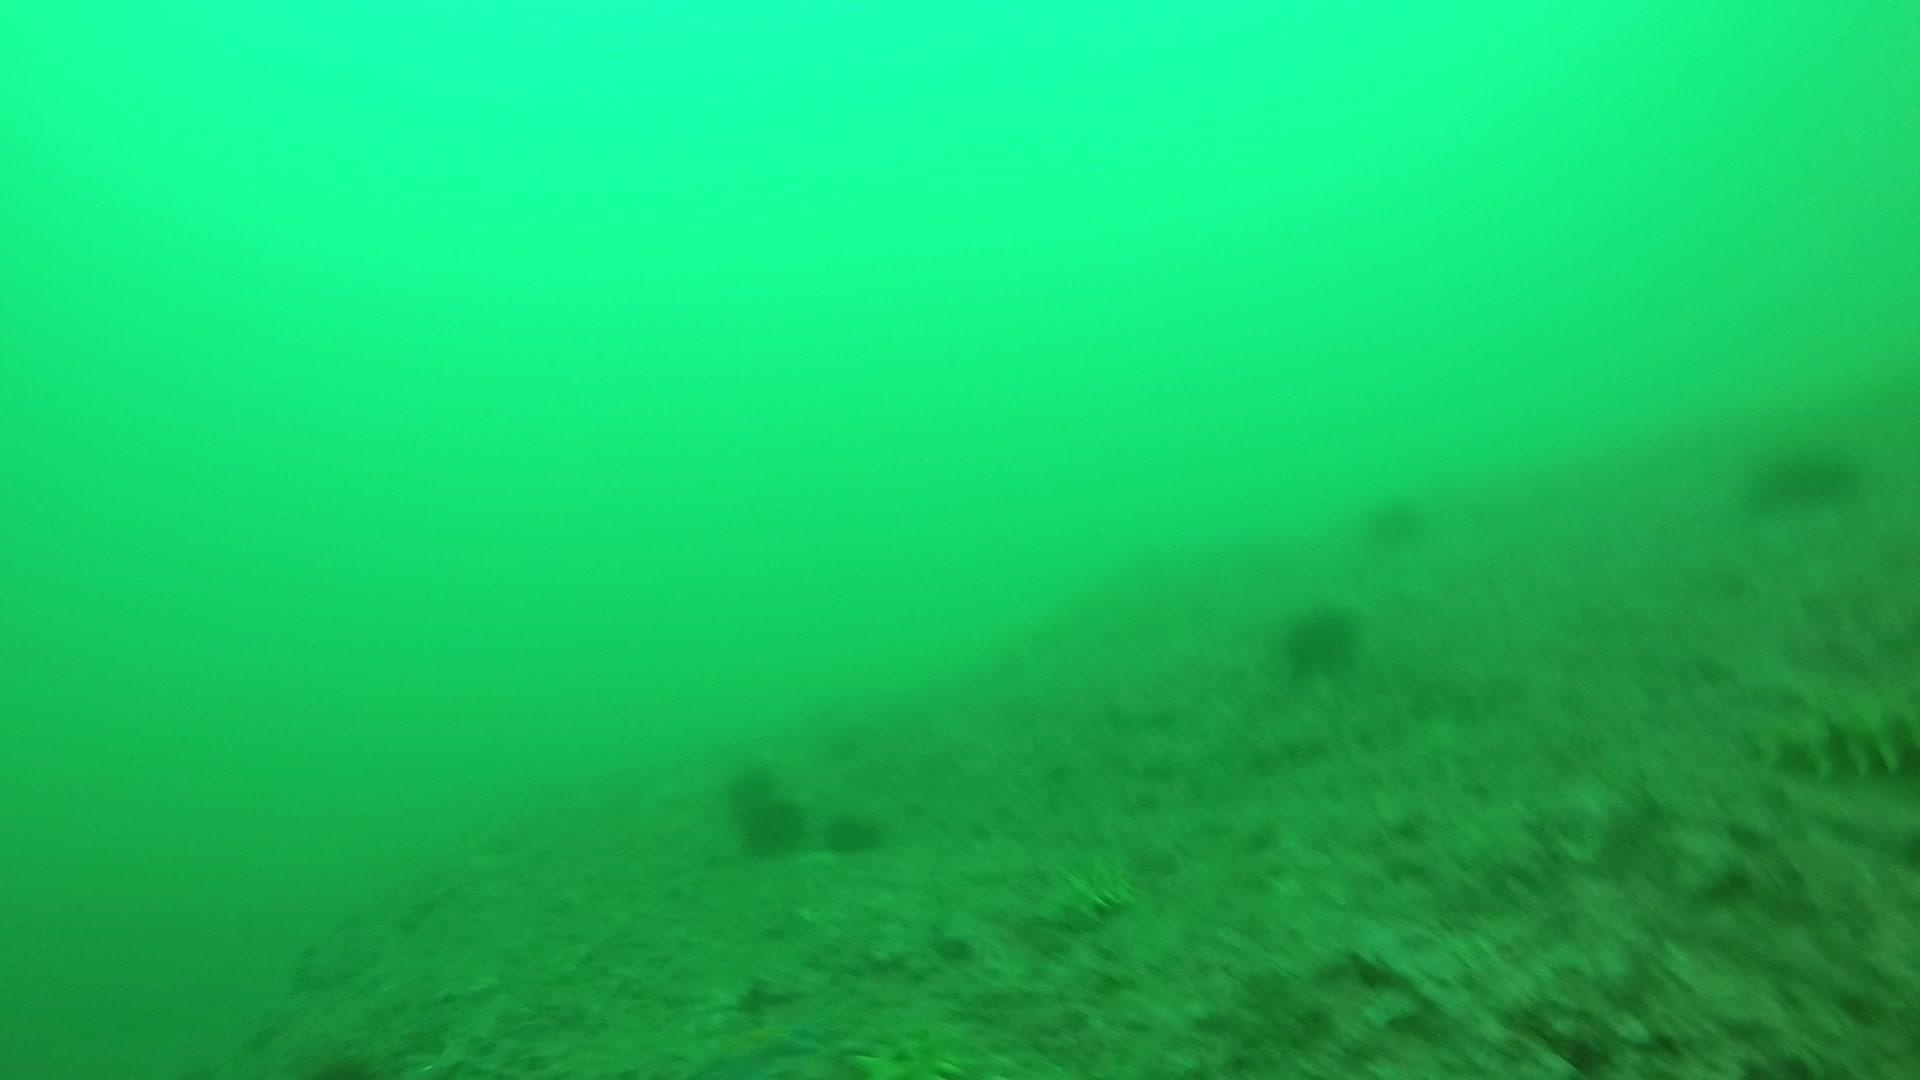echinus: (1745, 433, 1865, 514), (1276, 597, 1365, 679), (1358, 487, 1432, 550), (749, 791, 808, 860), (724, 756, 783, 824), (822, 804, 889, 860)
holothurian: (1750, 691, 1917, 789), (1022, 860, 1138, 939)
starfish: (688, 1015, 825, 1073)
